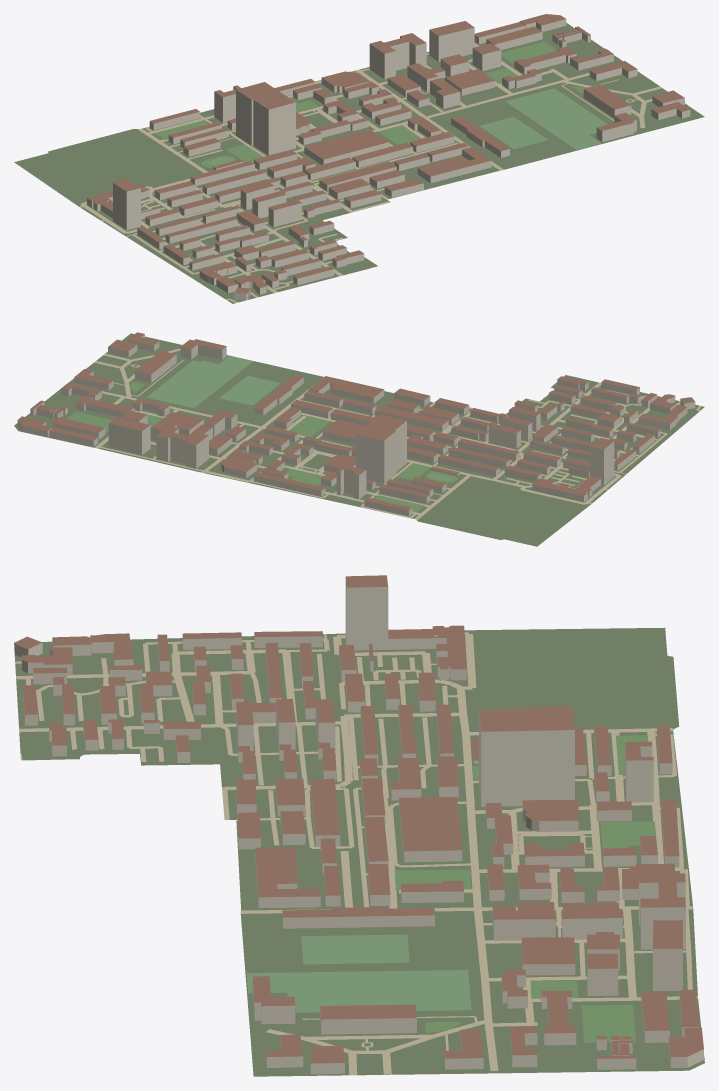
3 views of the same model, one above another, from view 1: azimuth 30°, elevation 25°; view 2: azimuth 150°, elevation 25°; view 3: azimuth 270°, elevation 25° (orthographic). The views are drawn at different scales.
Parts seen in each view (by area): view 1: buildings, campus-ground, roofs, environment (×3); view 2: buildings, campus-ground, roofs, environment (×3); view 3: campus-ground, roofs, buildings, environment (×3).
Boxes of the visible parts, <box> form: buildings: <box>87,19,690,300</box>; campus-ground: <box>14,23,704,303</box>; roofs: <box>87,14,689,293</box>; environment (×3): <box>79,41,662,302</box>; buildings: <box>17,334,695,516</box>; campus-ground: <box>14,333,704,546</box>; roofs: <box>18,332,694,510</box>; environment (×3): <box>67,348,701,519</box>; campus-ground: <box>14,627,704,1076</box>; roofs: <box>14,575,703,1063</box>; buildings: <box>14,579,703,1074</box>; environment (×3): <box>14,632,698,1075</box>.
Size of the model in its own units: 1058 by 82.7 by 688.
